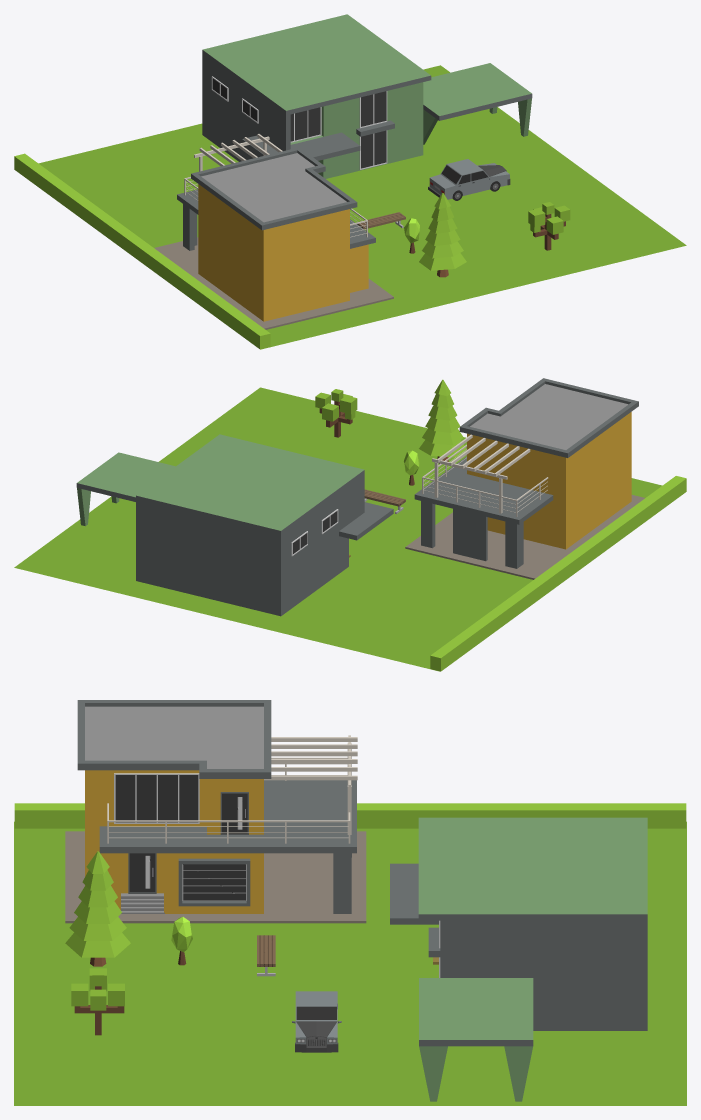
Rendered from remix-residential-garden.glb.
The picture shows the model from 3 angles, top to bottom: view 1: azimuth 30°, elevation 25°; view 2: azimuth 150°, elevation 25°; view 3: azimuth 270°, elevation 25°; orthographic projection. The views are drawn at different scales.
Visible parts, largest first — view 1: Natures_Grass Tile_Plane.010, Building_House_04_color01_Cube.099, Building_House_01_color01_Cube.024, Natures_Grass Fence_Cube.2536, Vehicle_Car_Cube.050, Natures_Fir Tree_Cylinder.004, Natures_Cube Tree_Cube.017; view 2: Natures_Grass Tile_Plane.010, Building_House_04_color01_Cube.099, Building_House_01_color01_Cube.024, Natures_Grass Fence_Cube.2536, Natures_Fir Tree_Cylinder.004, Natures_Cube Tree_Cube.017; view 3: Natures_Grass Tile_Plane.010, Building_House_01_color01_Cube.024, Building_House_04_color01_Cube.099, Natures_Grass Fence_Cube.2536, Natures_Fir Tree_Cylinder.004, Vehicle_Car_Cube.050, Natures_Cube Tree_Cube.017, Props_Bench_1_Cube.023, Natures_Bush_01_Cylinder.
Part boxes in pixels (box(x1,y1,x2,y2)): Natures_Grass Tile_Plane.010: box(38, 65, 686, 349); Building_House_04_color01_Cube.099: box(202, 14, 532, 178); Building_House_01_color01_Cube.024: box(154, 134, 393, 329); Natures_Grass Fence_Cube.2536: box(14, 153, 270, 349); Vehicle_Car_Cube.050: box(428, 159, 510, 200); Natures_Fir Tree_Cylinder.004: box(419, 193, 466, 277); Natures_Cube Tree_Cube.017: box(528, 202, 570, 250); Natures_Grass Tile_Plane.010: box(14, 387, 662, 671); Building_House_04_color01_Cube.099: box(76, 434, 393, 616); Building_House_01_color01_Cube.024: box(405, 378, 644, 579); Natures_Grass Fence_Cube.2536: box(430, 476, 686, 671); Natures_Fir Tree_Cylinder.004: box(419, 379, 466, 463); Natures_Cube Tree_Cube.017: box(315, 389, 357, 437); Natures_Grass Tile_Plane.010: box(14, 821, 686, 1105); Building_House_01_color01_Cube.024: box(65, 700, 366, 923); Building_House_04_color01_Cube.099: box(390, 817, 647, 1101); Natures_Grass Fence_Cube.2536: box(14, 803, 686, 828); Natures_Fir Tree_Cylinder.004: box(65, 851, 130, 966); Vehicle_Car_Cube.050: box(292, 991, 341, 1052); Natures_Cube Tree_Cube.017: box(71, 968, 124, 1035); Props_Bench_1_Cube.023: box(257, 935, 275, 976); Natures_Bush_01_Cylinder: box(171, 916, 192, 965).
Size of the model in its own units: 40 by 9.05 by 40.
5 materials, 5 textured.
